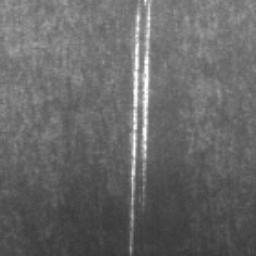Bright scratch: (129, 0, 151, 256)
